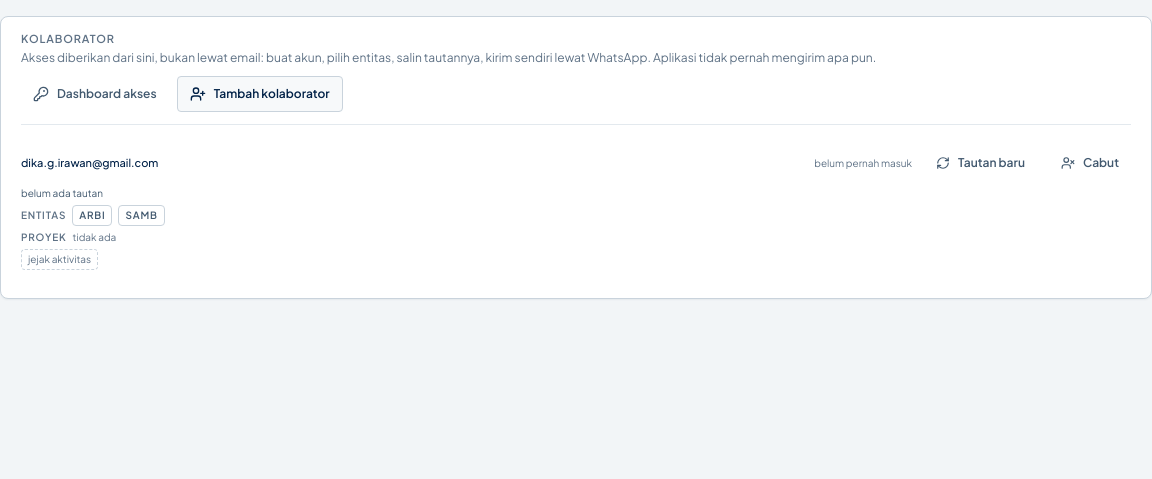
Test: the link is closed by default and opened deliberately › masks the token but keeps the destination legible
Expected: the text "dika.g.irawan@gmail.com" is shown, [21,156,158,169]
Click the button "Tautan baru" at (981, 163), box [924,145,1037,181]
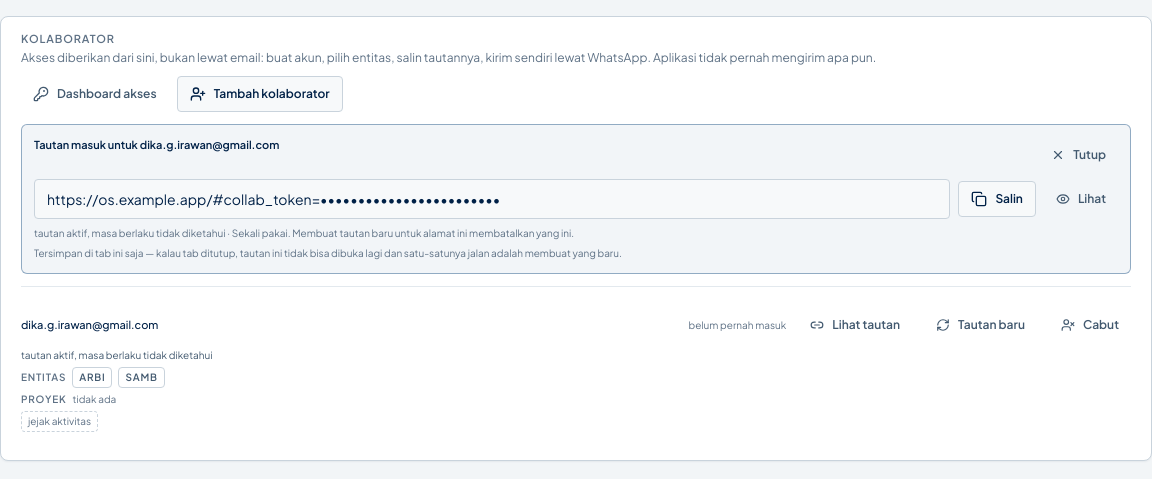
Expected: the field named "Tautan masuk kolaborator" is shown, [34,179,950,219]
